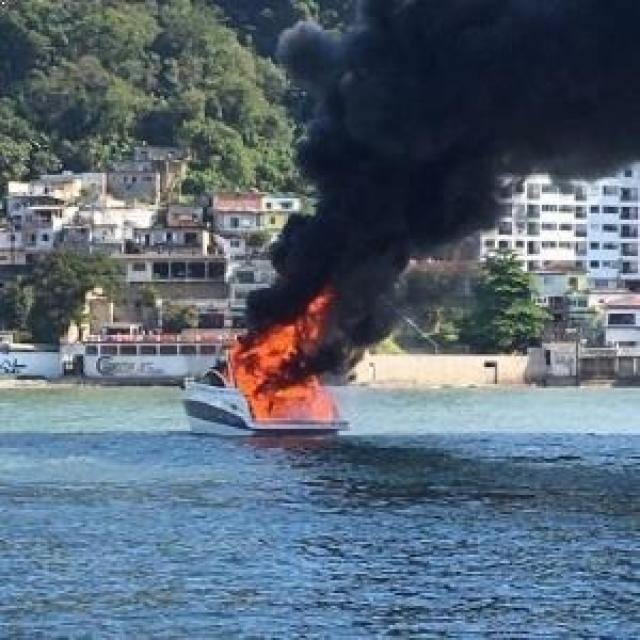Fire: (223, 302, 324, 404)
Smoke: (291, 0, 640, 376)
